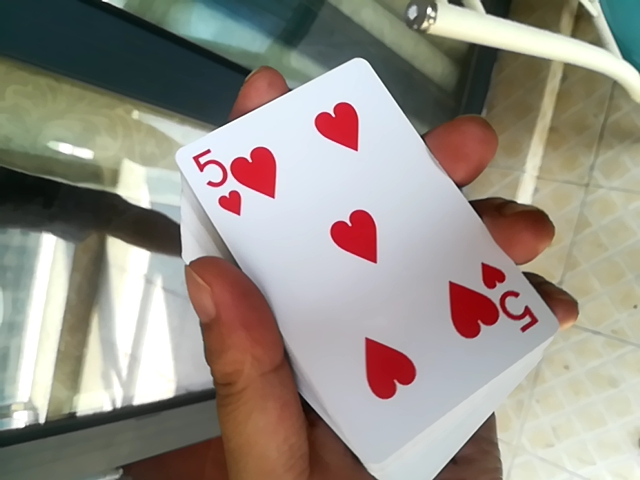hx 5: (151, 62, 549, 476)
